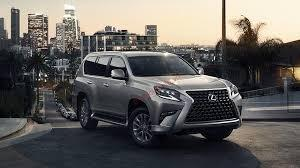lexus: (207, 92, 219, 104)
